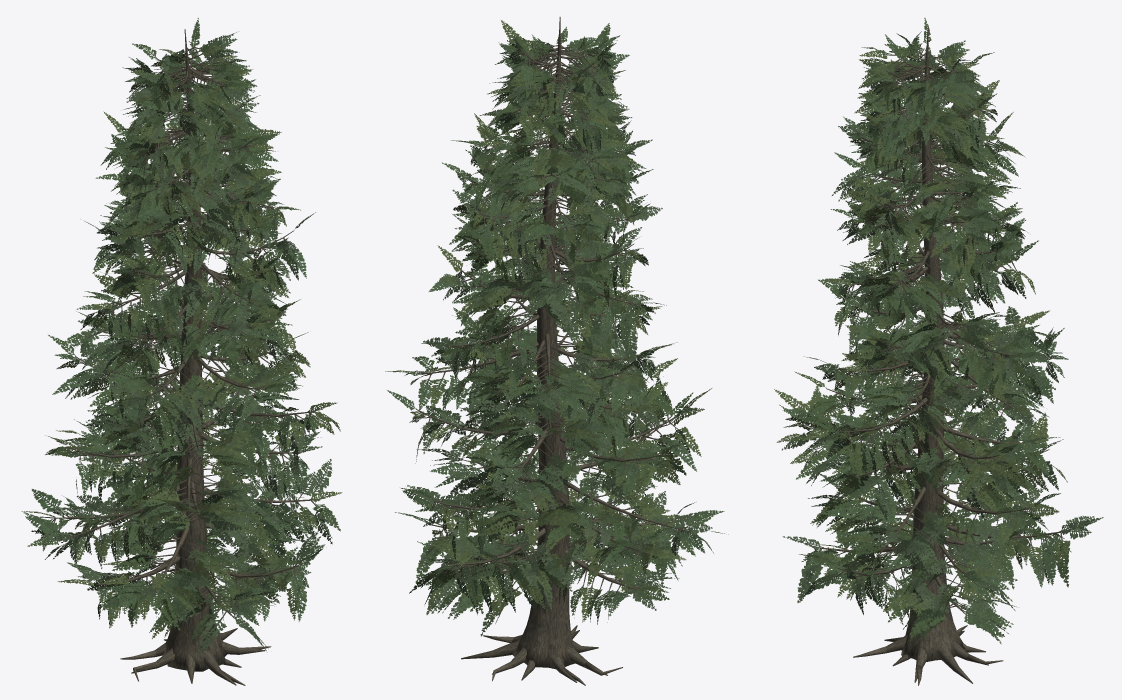
File: FOREST_Spruce_A_LOD1.fbx
The picture shows the model from 3 angles, left to right: view 1: azimuth 30°, elevation 25°; view 2: azimuth 150°, elevation 25°; view 3: azimuth 270°, elevation 25°; orthographic projection. The views are drawn at different scales.
Visible parts, largest first — view 1: SPRUCE_A_Needles_LOD1, SPRUCE_A_Wood_LOD1; view 2: SPRUCE_A_Needles_LOD1, SPRUCE_A_Wood_LOD1; view 3: SPRUCE_A_Needles_LOD1, SPRUCE_A_Wood_LOD1.
Part boxes in pixels (<box>): SPRUCE_A_Needles_LOD1: <box>21,18,342,658</box>; SPRUCE_A_Wood_LOD1: <box>40,29,325,685</box>; SPRUCE_A_Needles_LOD1: <box>385,20,728,636</box>; SPRUCE_A_Wood_LOD1: <box>416,16,693,685</box>; SPRUCE_A_Needles_LOD1: <box>774,18,1103,644</box>; SPRUCE_A_Wood_LOD1: <box>801,27,1076,685</box>.
Size of the model in its own units: 6.29 by 11.9 by 5.93.
